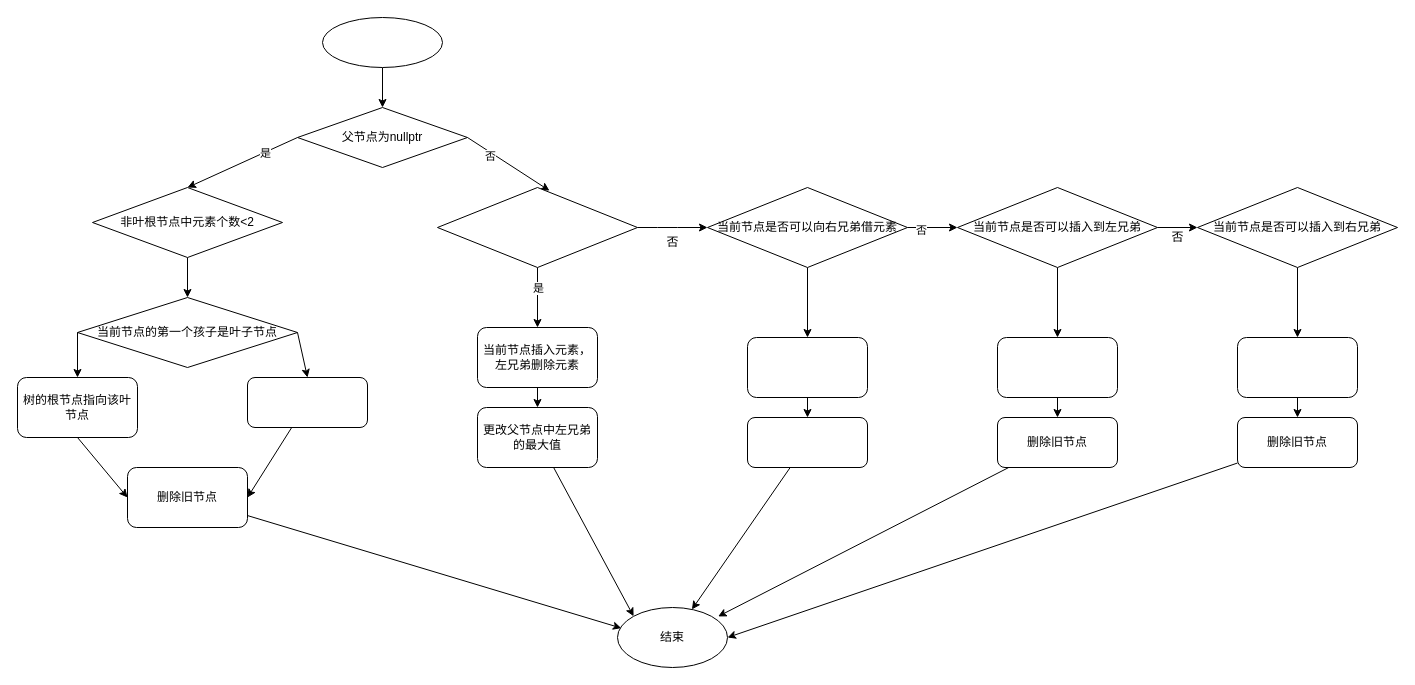
This 1415x685 diagram has some shape labels left out. Each missing label, with the box of its shape:
右兄弟删除元素: (746, 416, 868, 468)
开始: (322, 16, 442, 68)
当前节点插入元素，更改父节点中当前元素的最大值: (746, 336, 868, 398)
当前节点是否可以向左兄弟借元素: (436, 186, 638, 268)
插入元素到右兄弟，更改父节点中孩子信息: (1236, 336, 1358, 398)
插入元素到左兄弟，更改父节点中孩子信息: (996, 336, 1118, 398)
树的根节点指向该分支节点: (246, 376, 368, 428)
